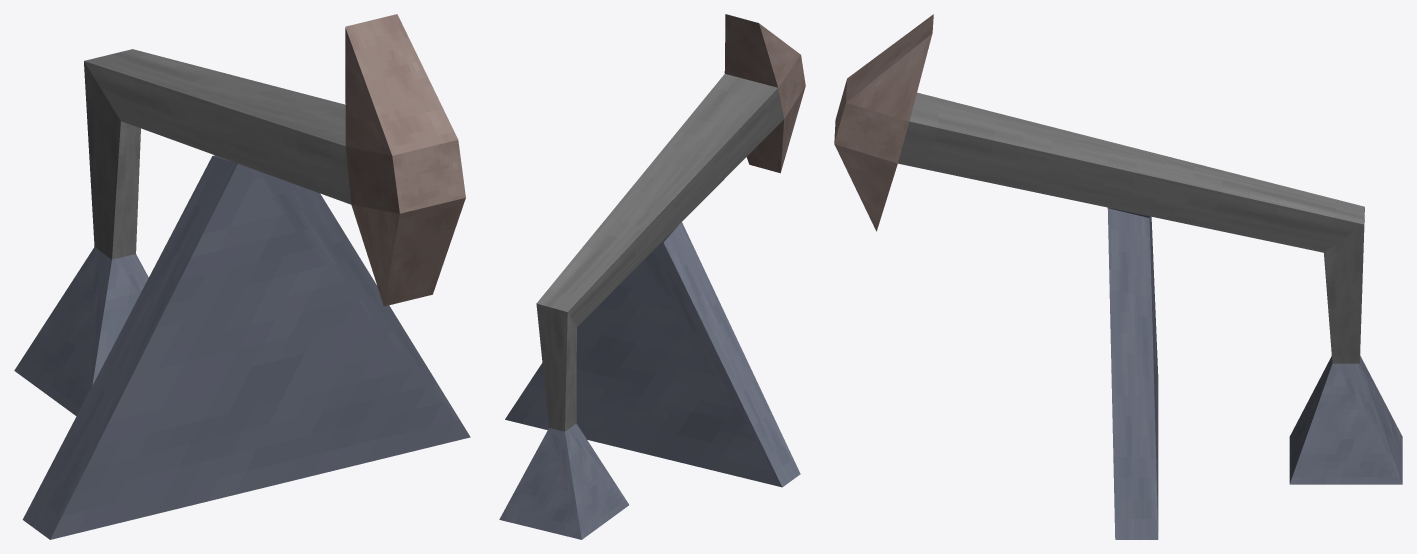
The model's file is oilwell.obj.
3 views of the same model, side by side, from view 1: azimuth 30°, elevation 25°; view 2: azimuth 150°, elevation 25°; view 3: azimuth 270°, elevation 25° (orthographic). The views are drawn at different scales.
Visible parts, largest first — view 1: Cube.001_Material; view 2: Cube.001_Material; view 3: Cube.001_Material.
Part boxes in pixels (x1,y1,x2,y2): Cube.001_Material: [14, 14, 470, 539]; Cube.001_Material: [499, 14, 805, 539]; Cube.001_Material: [834, 14, 1402, 539].
Bounding box in the file's own units: 0.5643 × 0.7133 × 0.844.
3 materials, 3 textured.
